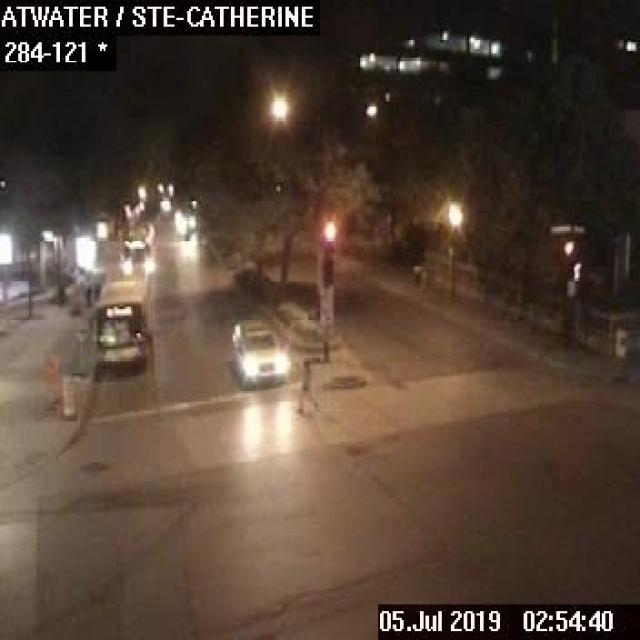bus: (91, 277, 148, 375), (119, 222, 155, 274)
construction: (56, 369, 76, 415)
pedestrian: (293, 353, 320, 411)
vehicle: (227, 313, 291, 389)
